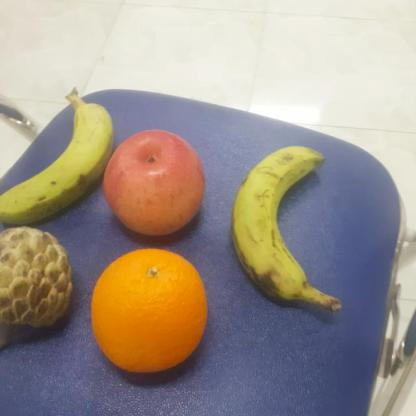annona: (1, 224, 78, 333)
apple: (103, 126, 208, 239)
banana: (231, 135, 330, 302), (0, 101, 118, 225)
orange: (89, 244, 209, 374)
